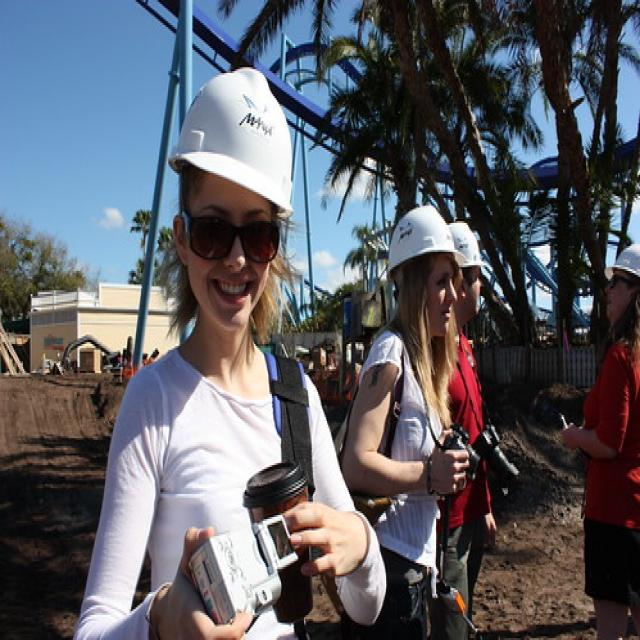Reflective-Jacket: (578, 327, 640, 536)
Safety-Helmet: (168, 64, 296, 215), (384, 200, 461, 277), (449, 217, 486, 271), (605, 238, 640, 292)
